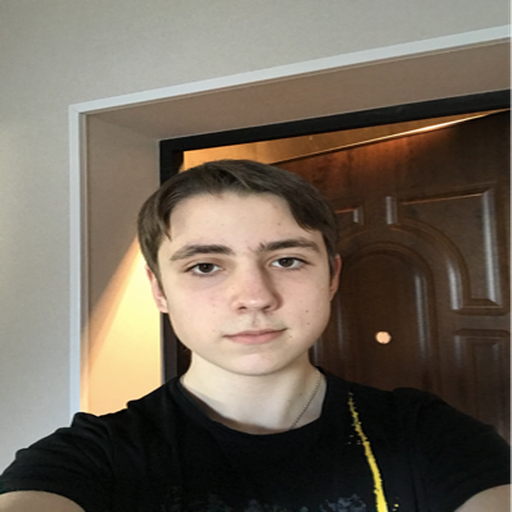person: (154, 211, 333, 368)
